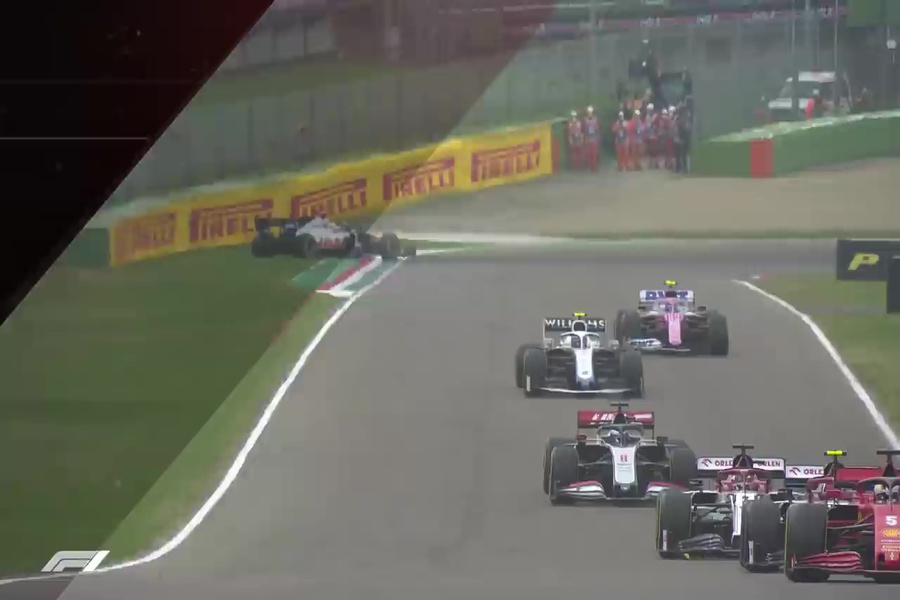Ferrari: (785, 451, 900, 582)
Racing Point: (608, 279, 730, 357)
